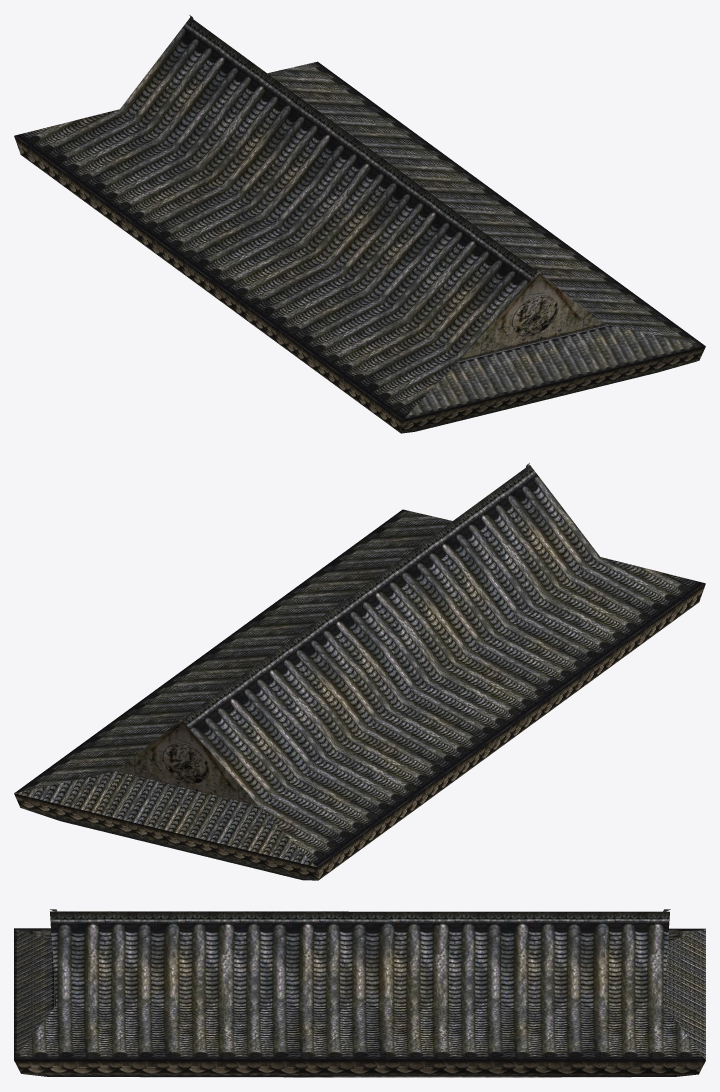
3 renders of one model, top to bottom at view 1: azimuth 30°, elevation 25°; view 2: azimuth 150°, elevation 25°; view 3: azimuth 270°, elevation 25°, orthographic. The views are drawn at different scales.
Parts seen in each view (by area): view 1: Plane67; view 2: Plane67; view 3: Plane67.
Part boxes in pixels (x1,y1,x2,y2): Plane67: [14, 15, 705, 433]; Plane67: [14, 463, 705, 880]; Plane67: [14, 909, 705, 1077].
Bounding box in the file's own units: 94.66 × 38.81 × 209.
